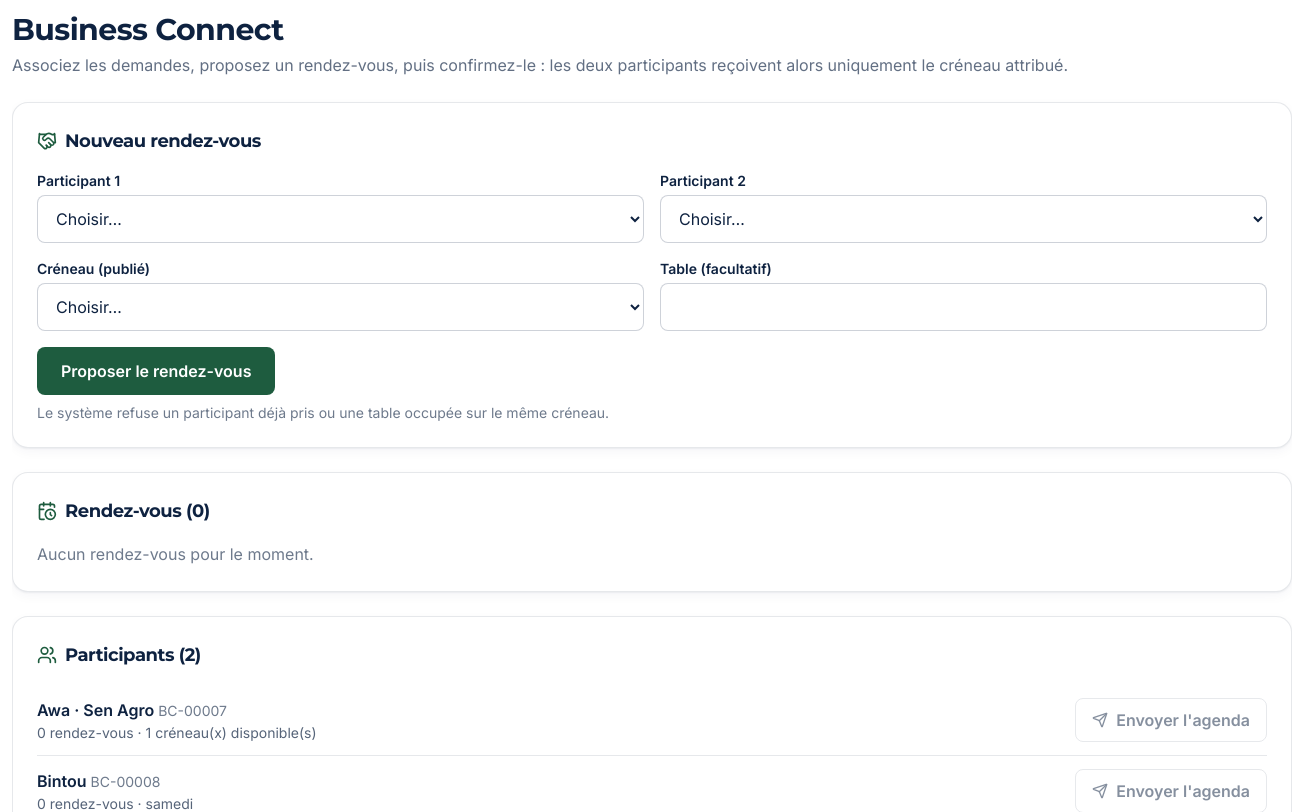
Test: Business Connect (Coordination) › ne propose que les créneaux publiés, puis propose et confirme un rendez-vous
Step 1. Select "Awa · Sen Agro (0 rdv)" in the dropdown labelled "Participant 1" → (340, 219), box [37, 195, 644, 243]
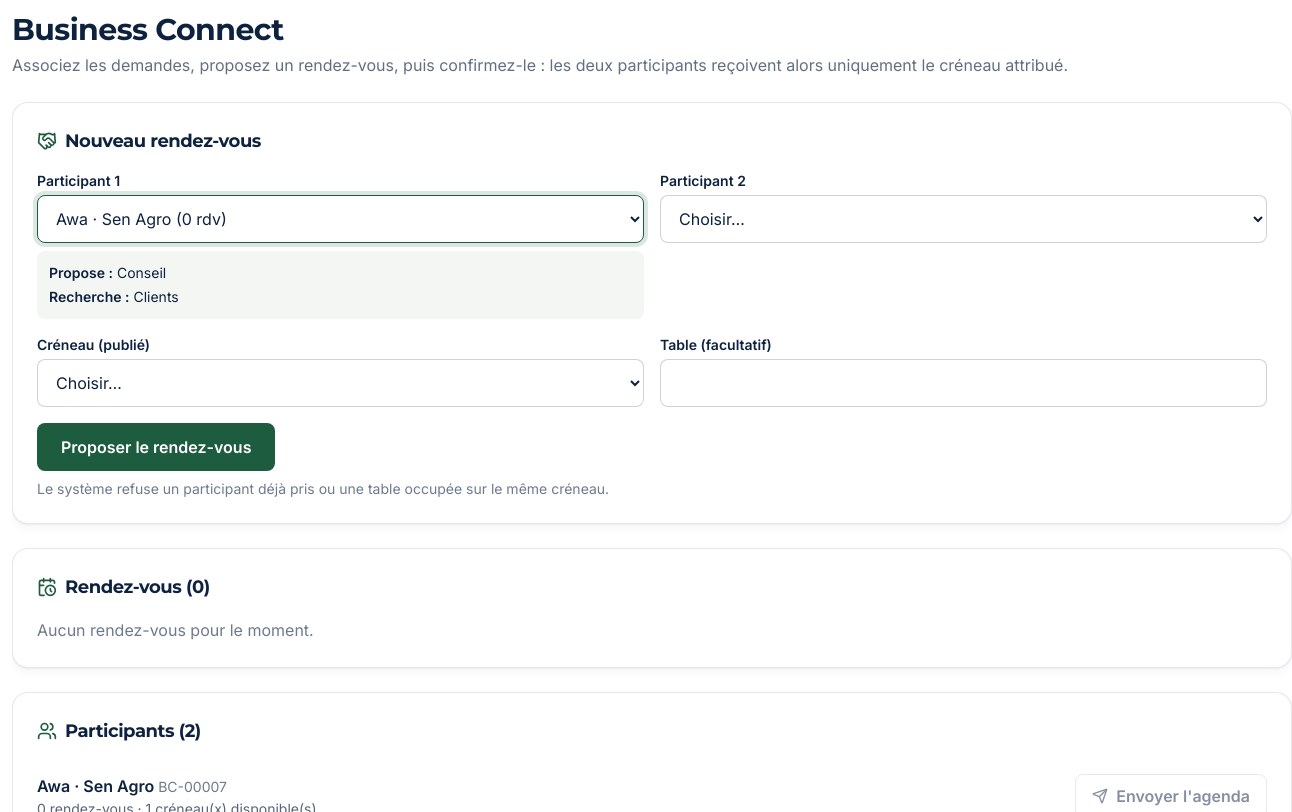
Expected: the text "Propose :" is shown, [49, 264, 113, 281]
Step 2. Select "Bintou (0 rdv)" in the dropdown labelled "Participant 2" → (964, 219), box [660, 195, 1267, 243]
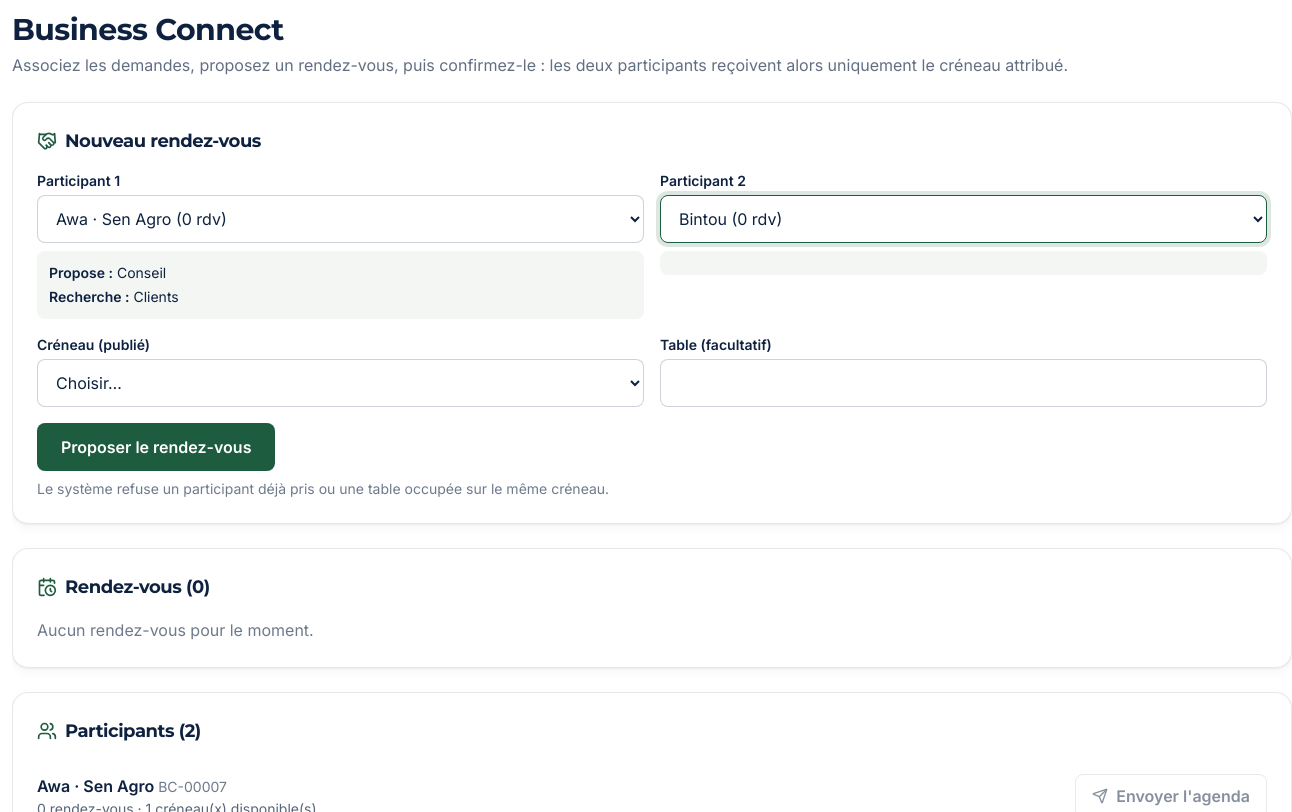
Step 3. Select "Vendredi 11/12 · 11:30–11:50" in the dropdown labelled "Créneau (publié)" → (340, 383), box [37, 359, 644, 407]
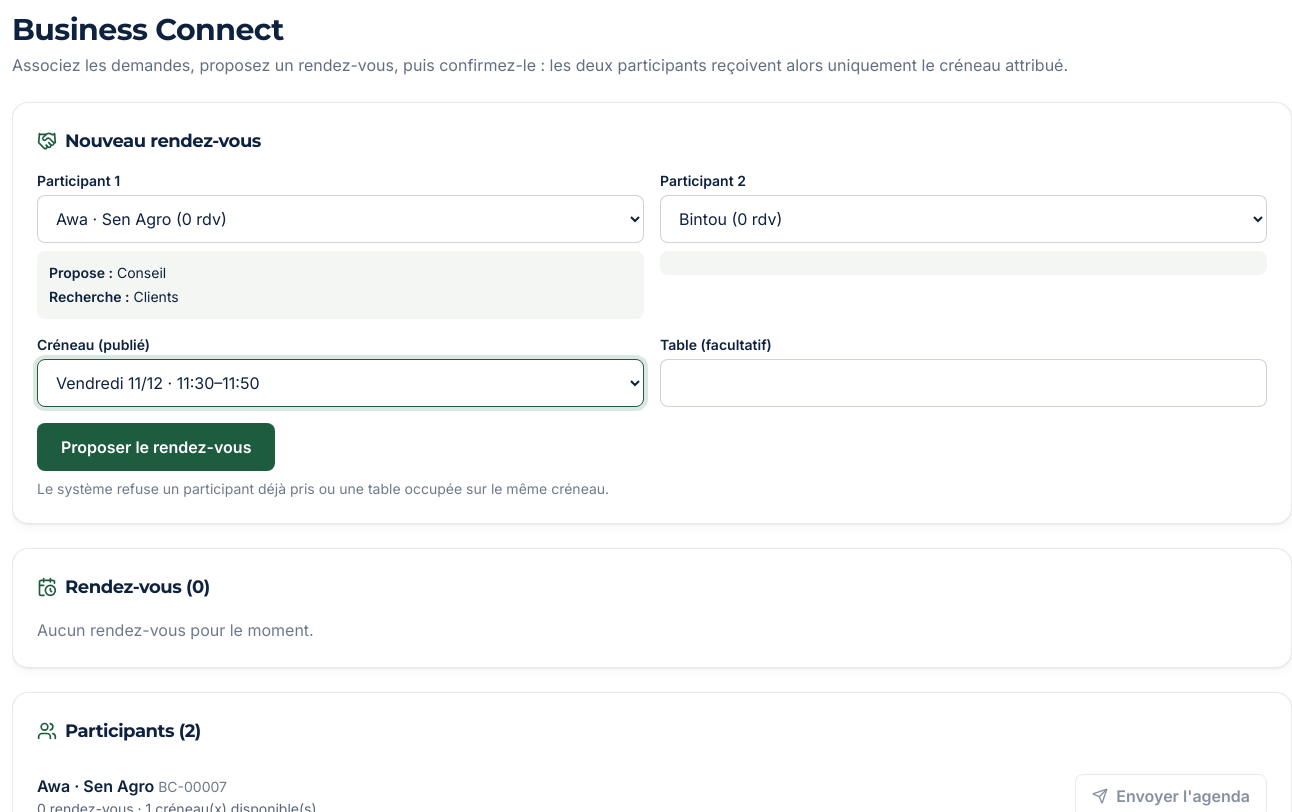
Step 4. Type "T1" into the field labelled "Table (facultatif)" → (964, 383), box [660, 359, 1267, 407]
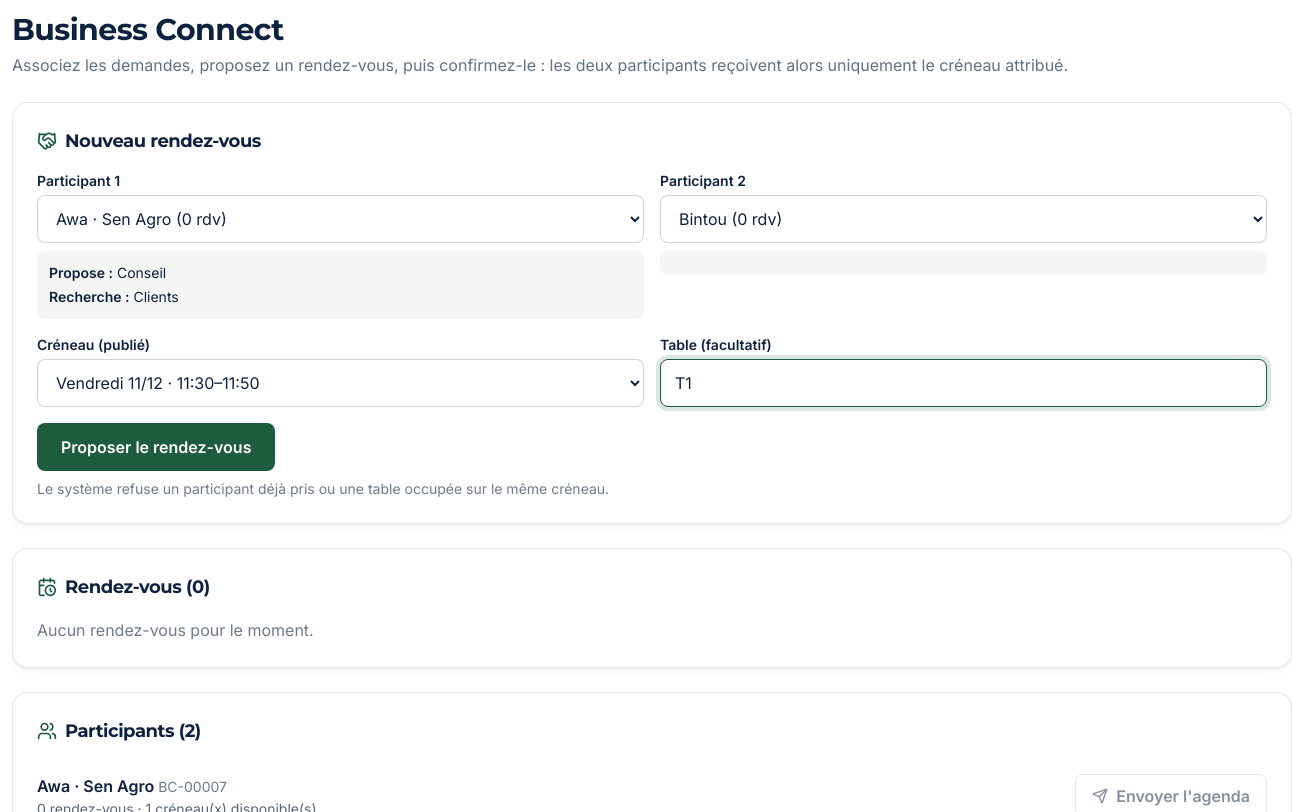
Step 5. Click the button "Proposer le rendez-vous" → (156, 447), box [37, 423, 275, 471]
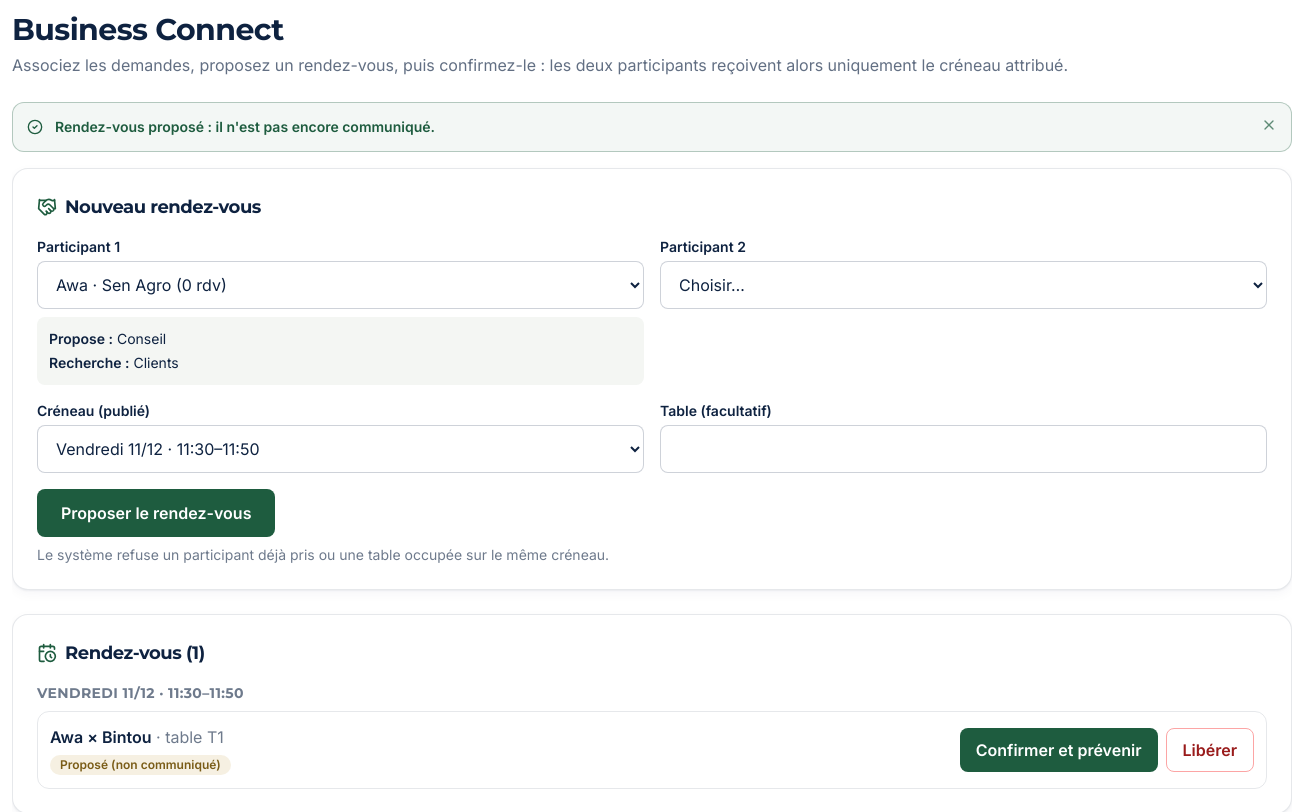
Expected: the text "Proposé (non communiqué)" is shown, [50, 755, 231, 775]
Step 6. Click the button "Confirmer et prévenir" → (1059, 750), box [960, 728, 1158, 772]
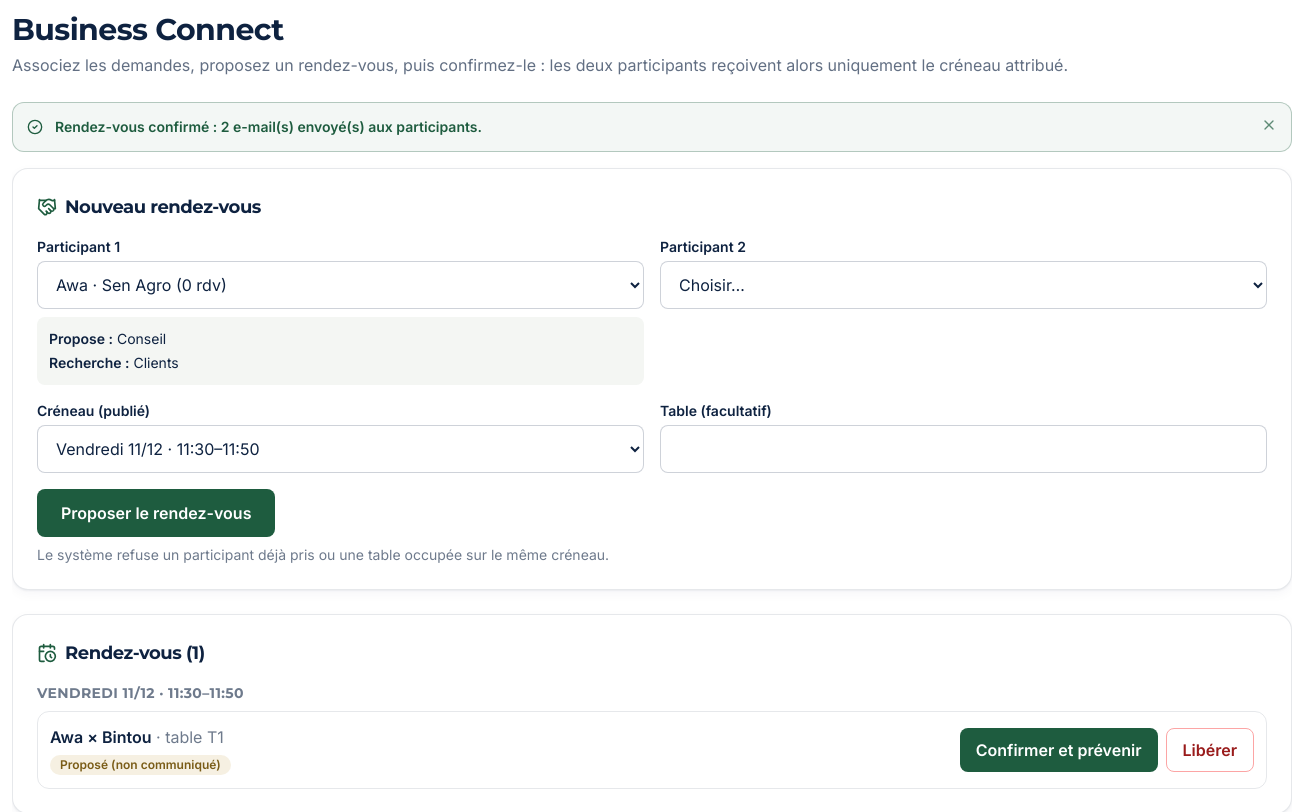
Expected: the text "2 e-mail(s) envoyé(s)" is shown, [55, 118, 482, 135]
